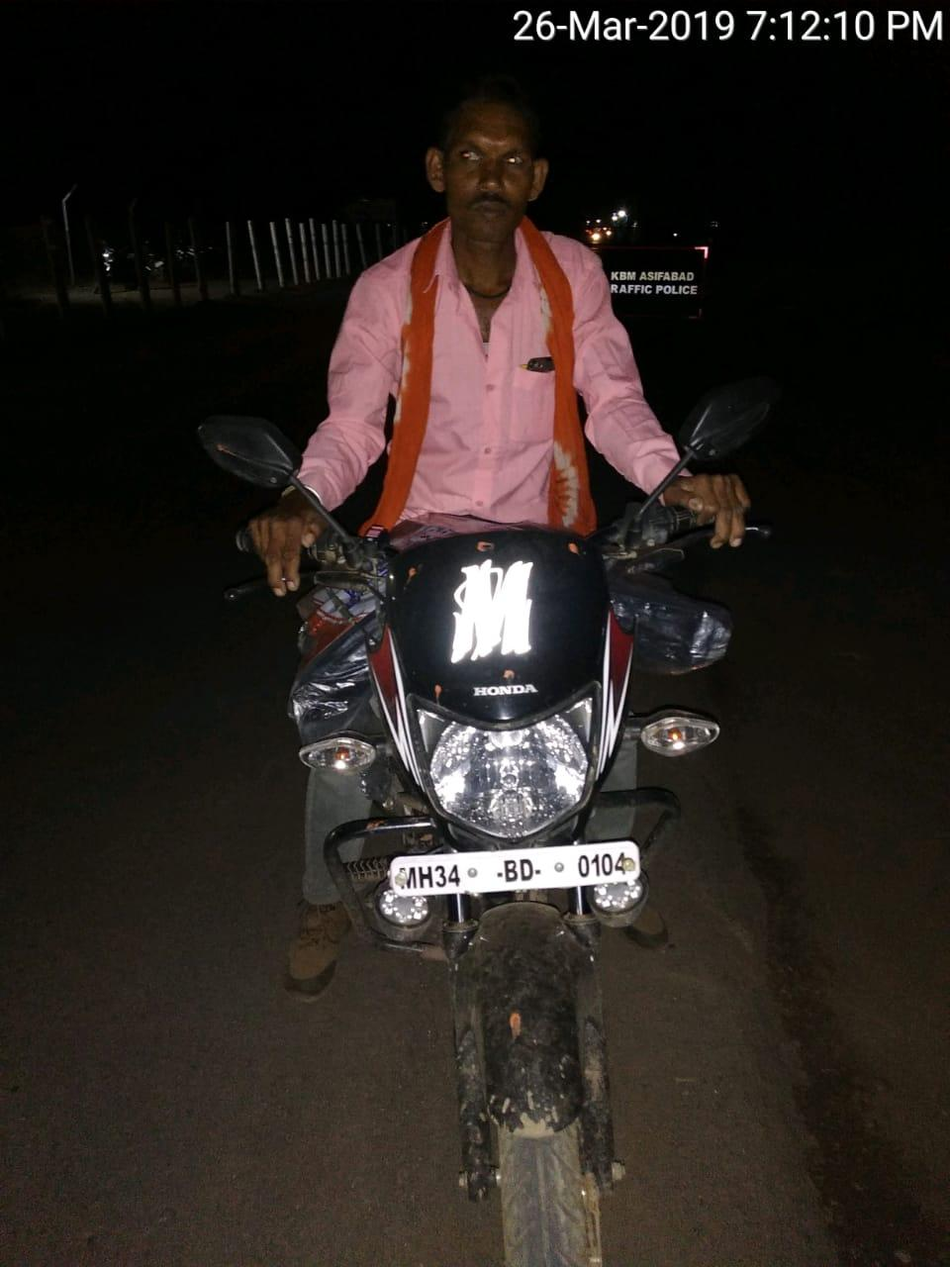plate: (337, 832, 684, 913)
